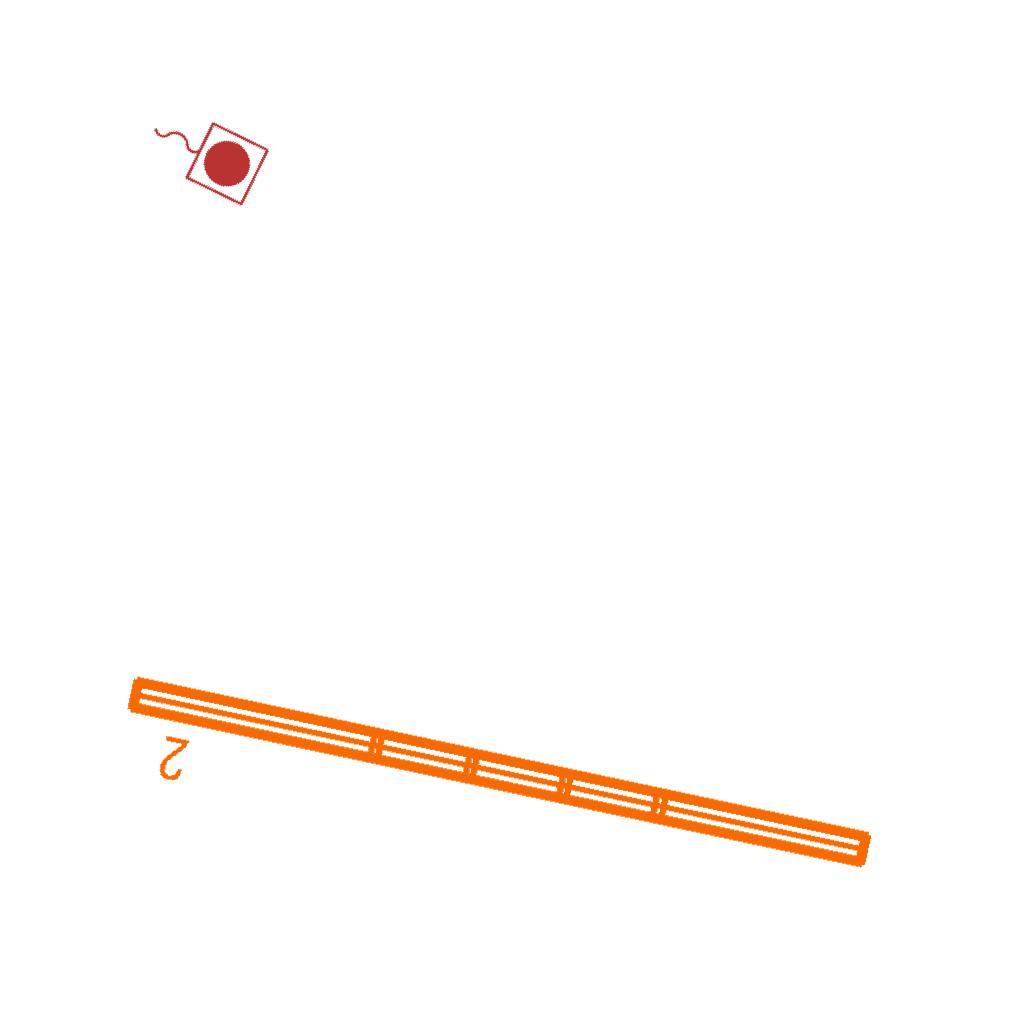Ambulanz_Pendelleuchte_LED: (104, 661, 886, 933)
Zugtaster: (134, 92, 276, 212)
